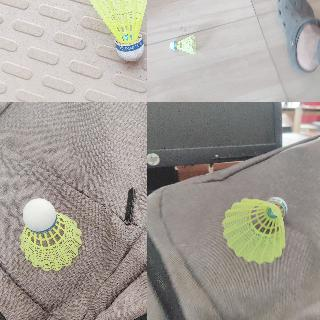shuttlecock: (18, 198, 82, 270), (223, 194, 285, 262), (82, 0, 146, 61), (168, 36, 198, 56)
